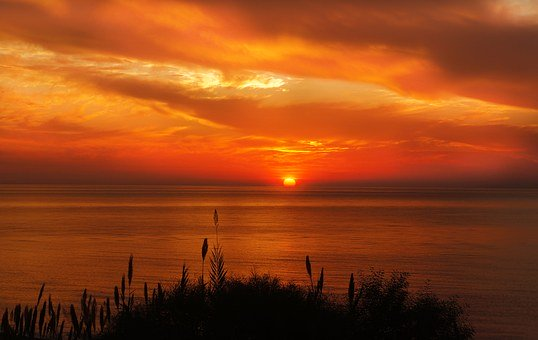sea: (8, 186, 538, 339)
sky: (2, 4, 538, 187)
